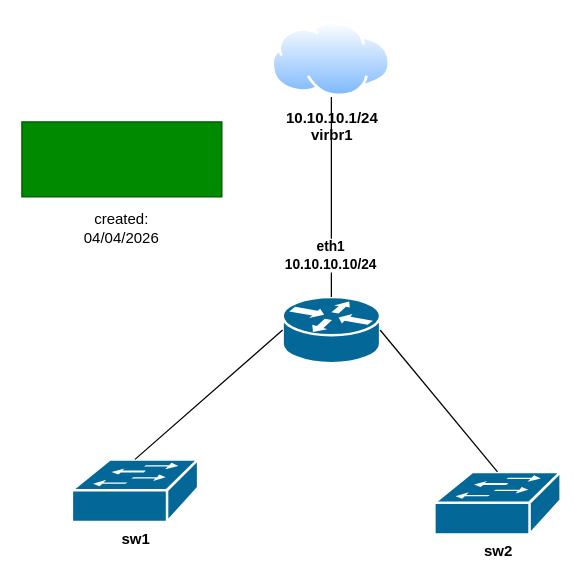
Some shapes in this 584 by 581 pixel diagram are drawn without their labels. Each missing label, with the box of its shape:
grafana-mktxxp: (21, 121, 222, 197)
mikrotik-grafana: (281, 295, 381, 364)
